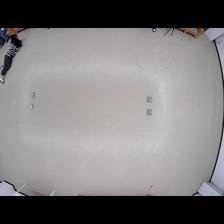fall: (1, 33, 22, 83)
